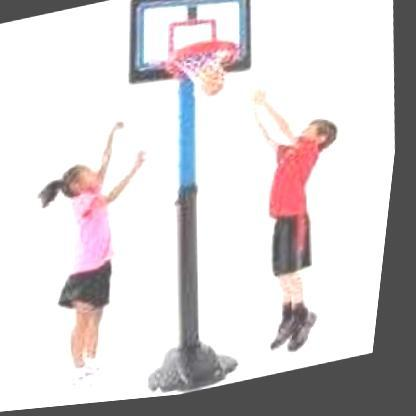basketball: (194, 67, 237, 110)
